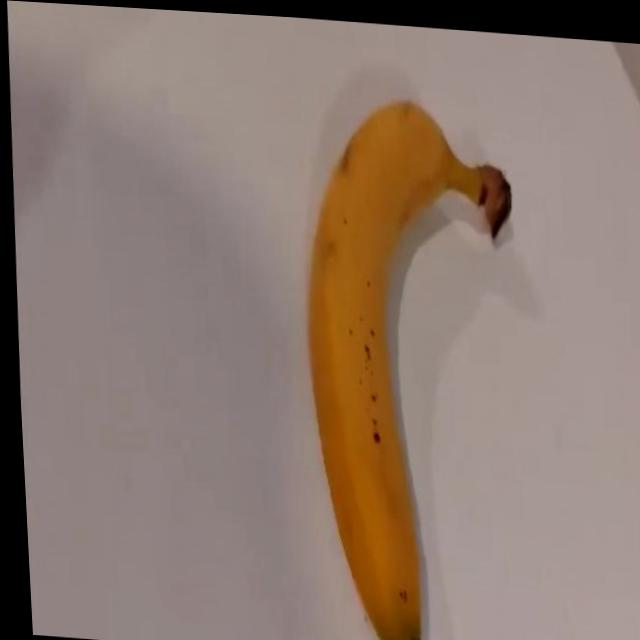Banana: (286, 87, 530, 640)
